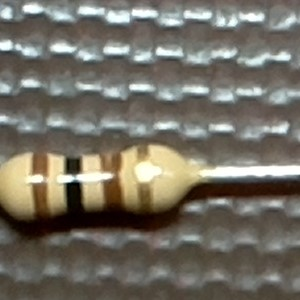black_band: (62, 154, 88, 219)
brown_band: (96, 148, 125, 218), (29, 148, 53, 225)
gold_band: (133, 139, 155, 219)
